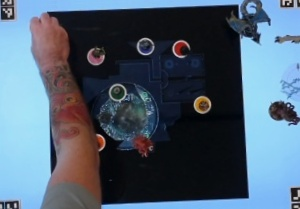blue: (133, 33, 157, 58)
green: (106, 81, 127, 103)
orange: (89, 131, 106, 151)
pink: (169, 37, 191, 60), (84, 45, 107, 67)
yellow: (186, 93, 211, 118)
